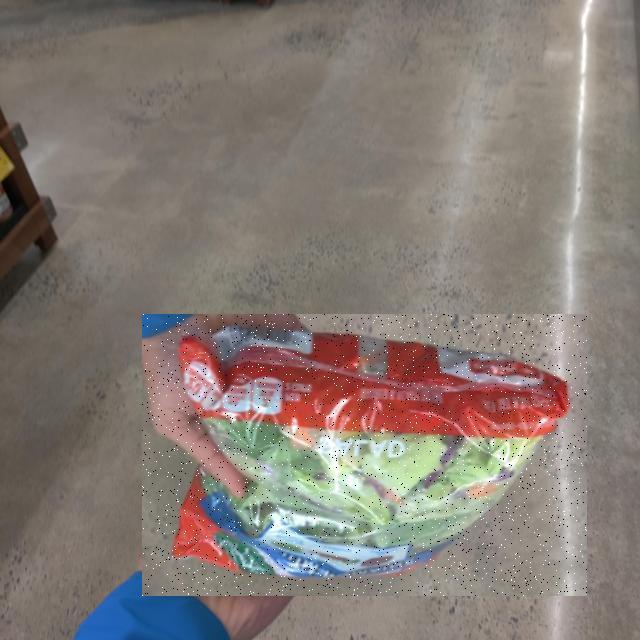Lettuce: (142, 314, 587, 596)
